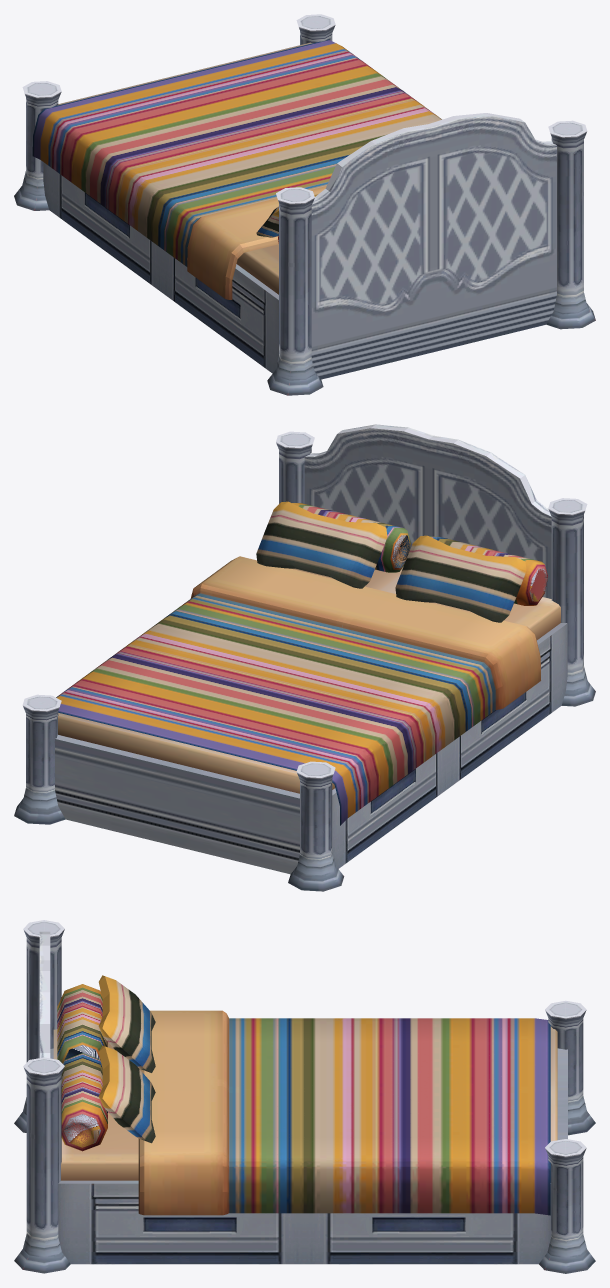
The model's file is furni_0200604.FBX.
The picture shows the model from 3 angles, top to bottom: view 1: azimuth 30°, elevation 25°; view 2: azimuth 150°, elevation 25°; view 3: azimuth 270°, elevation 25°; orthographic projection. The views are drawn at different scales.
Visible parts, largest first — view 1: furni_0200604; view 2: furni_0200604; view 3: furni_0200604.
Part boxes in pixels (x1,y1,x2,y2): furni_0200604: (14,14,595,395); furni_0200604: (14,424,595,891); furni_0200604: (14,920,595,1273).
Size of the model in its own units: 159 by 106 by 240.
Materials: 1 (1 with a texture image).
